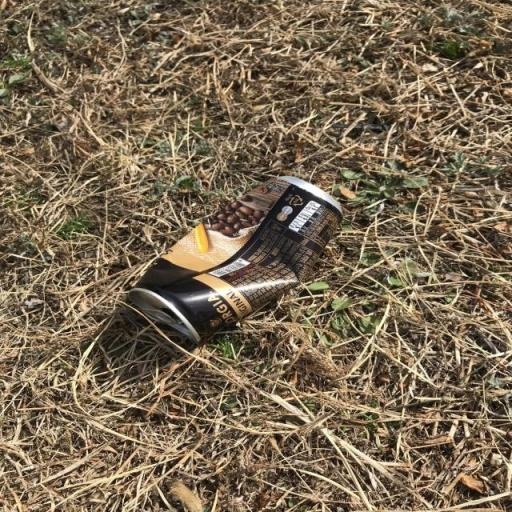metal: (88, 152, 372, 358)
